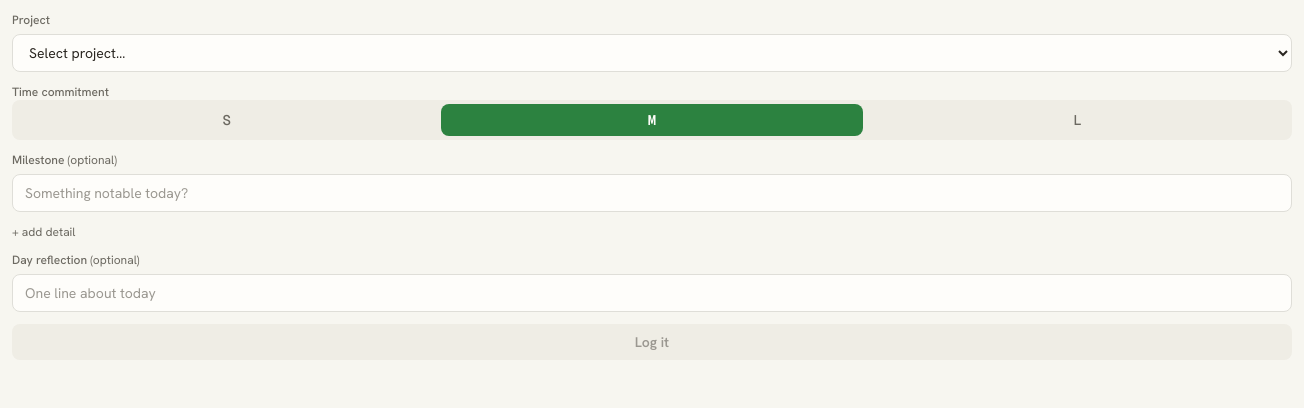
Test case: quick add › surfaces server errors
Select "Work" in the dropdown labelled "Project": point(652, 53) [12,34,1292,72]
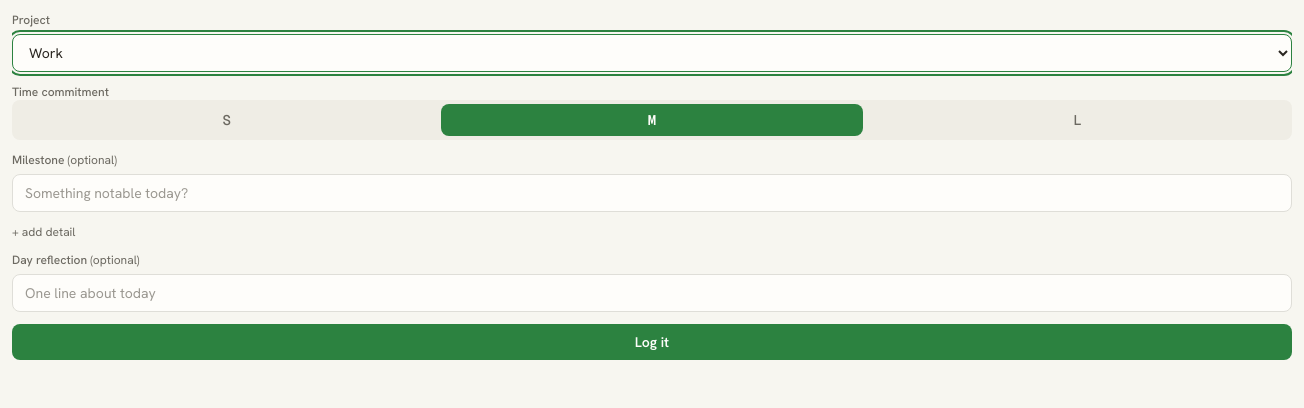
Click the button named "Small": point(227, 120) [16,104,437,136]
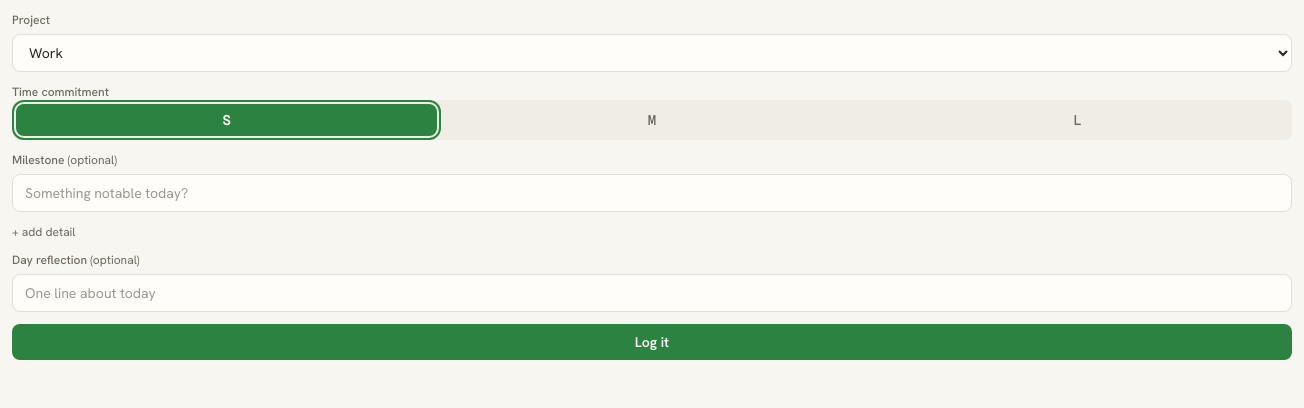
Click the button "Log it": point(652, 342) [12,324,1292,360]
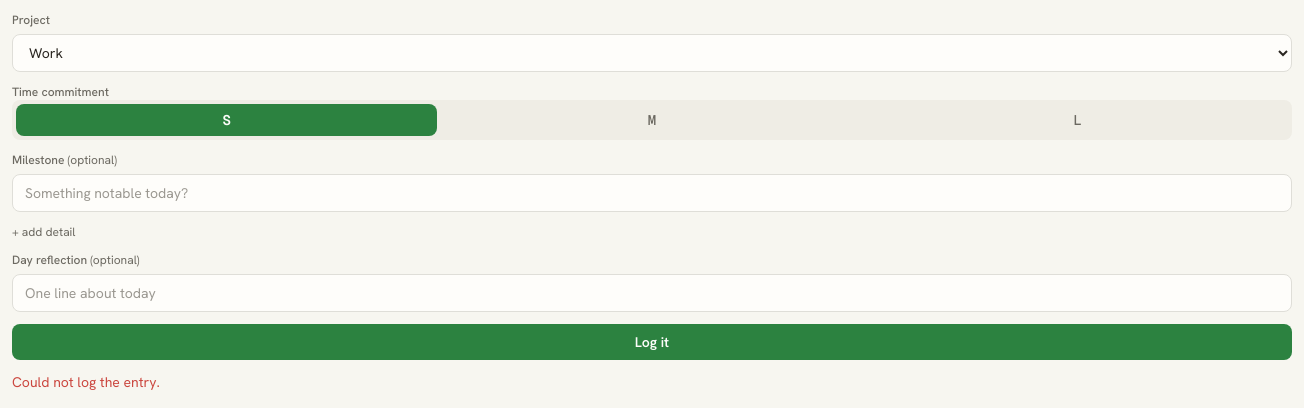
Expected: the text "Could not log the entry." is shown, [12,373,160,391]
